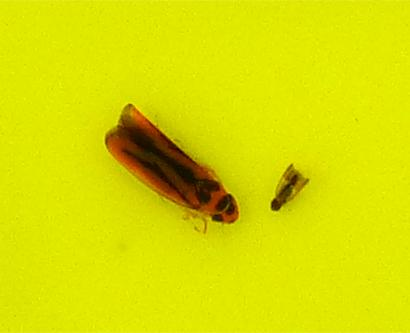Hemiptera: (100, 100, 243, 233), (265, 161, 310, 212)
